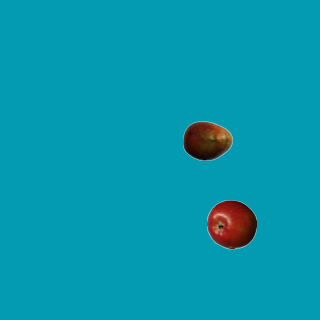Apple Braeburn: (206, 199, 256, 249)
Mango Red: (182, 115, 232, 165)
